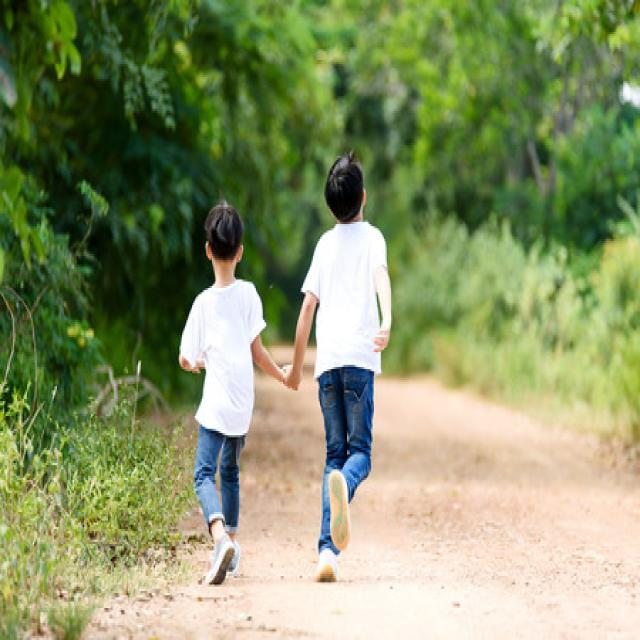Person: (286, 155, 392, 582), (180, 202, 288, 584)
